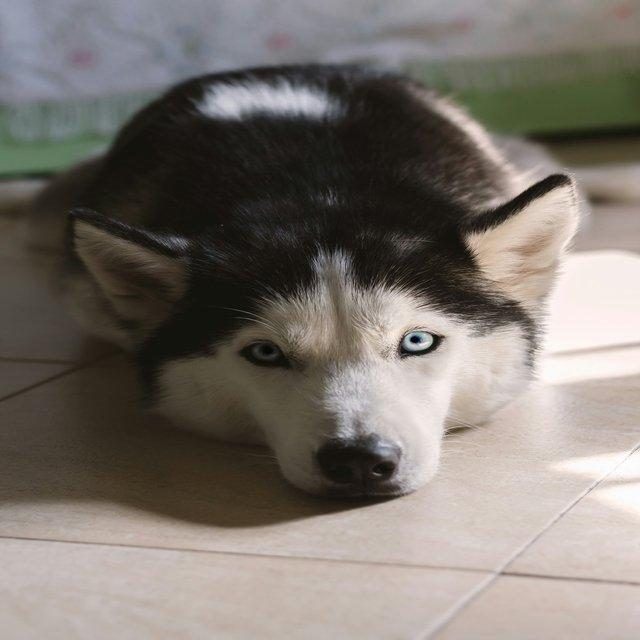husky: (23, 58, 589, 502)
